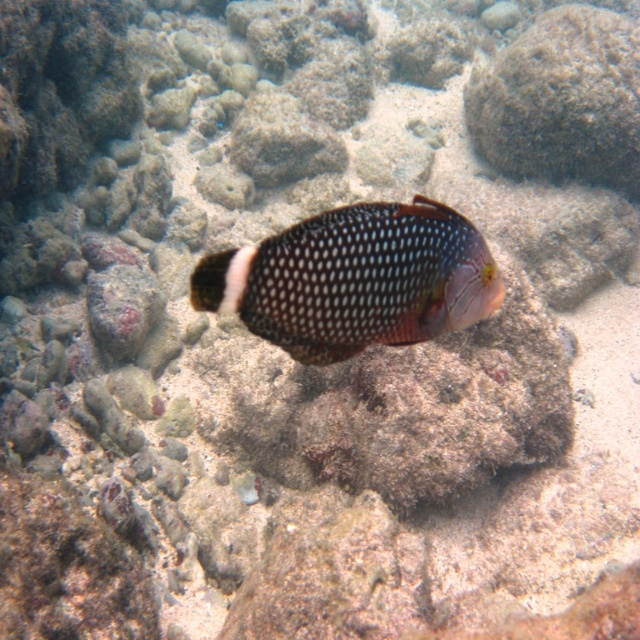Fish: (192, 194, 502, 370)
